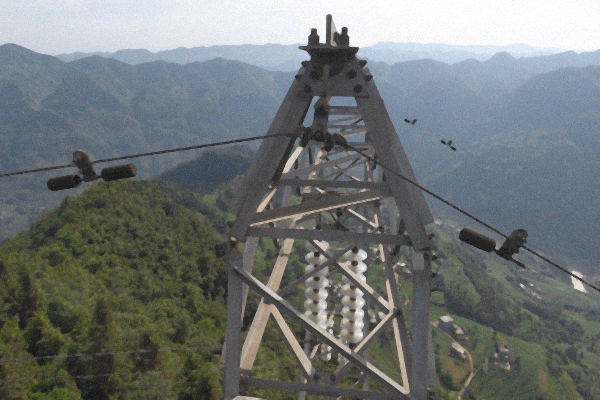damper: (45, 148, 138, 194), (439, 137, 458, 153)
damper_defect: (454, 224, 530, 271), (402, 115, 419, 127)
